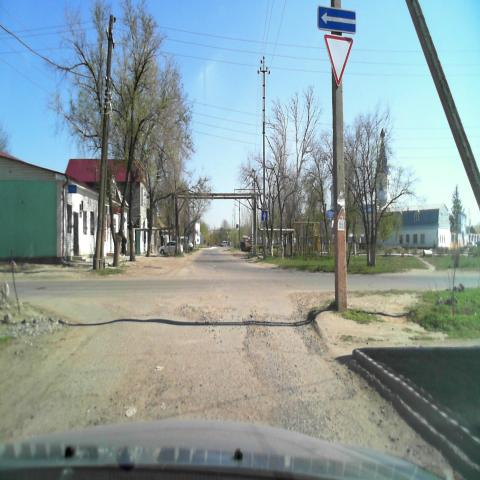5_7_2: (317, 7, 356, 34)
